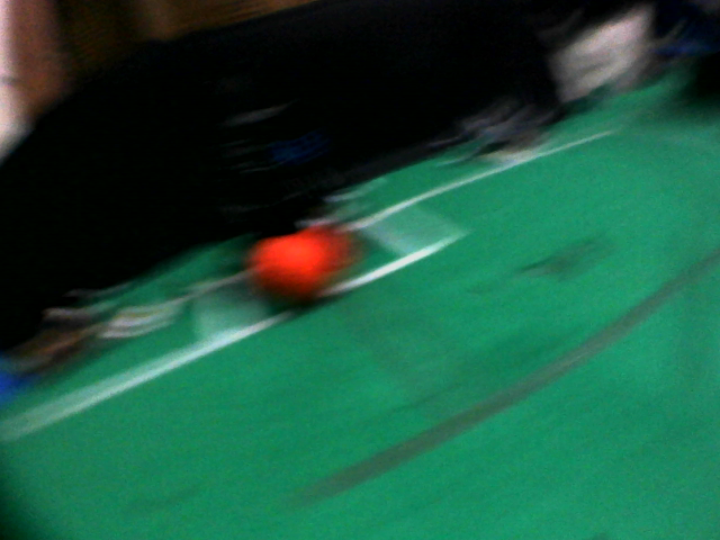bola: (240, 230, 346, 310)
